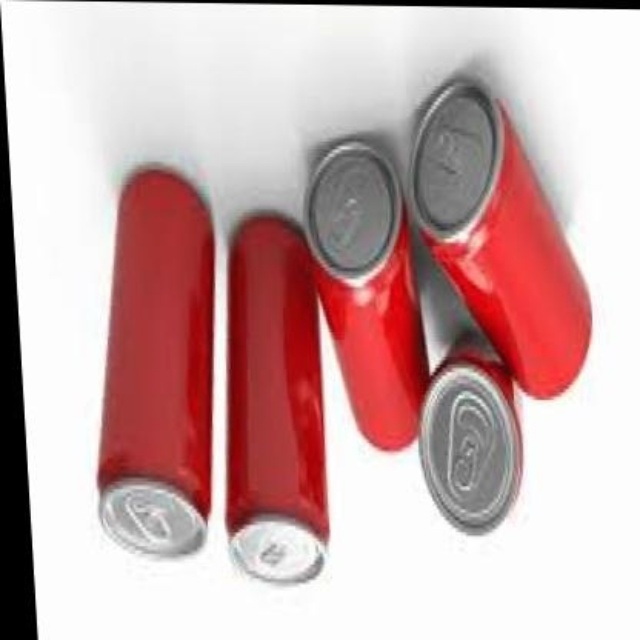trash: (226, 75, 589, 580), (411, 78, 589, 397), (98, 165, 217, 554), (98, 168, 212, 554), (306, 138, 428, 449), (226, 214, 328, 580)
